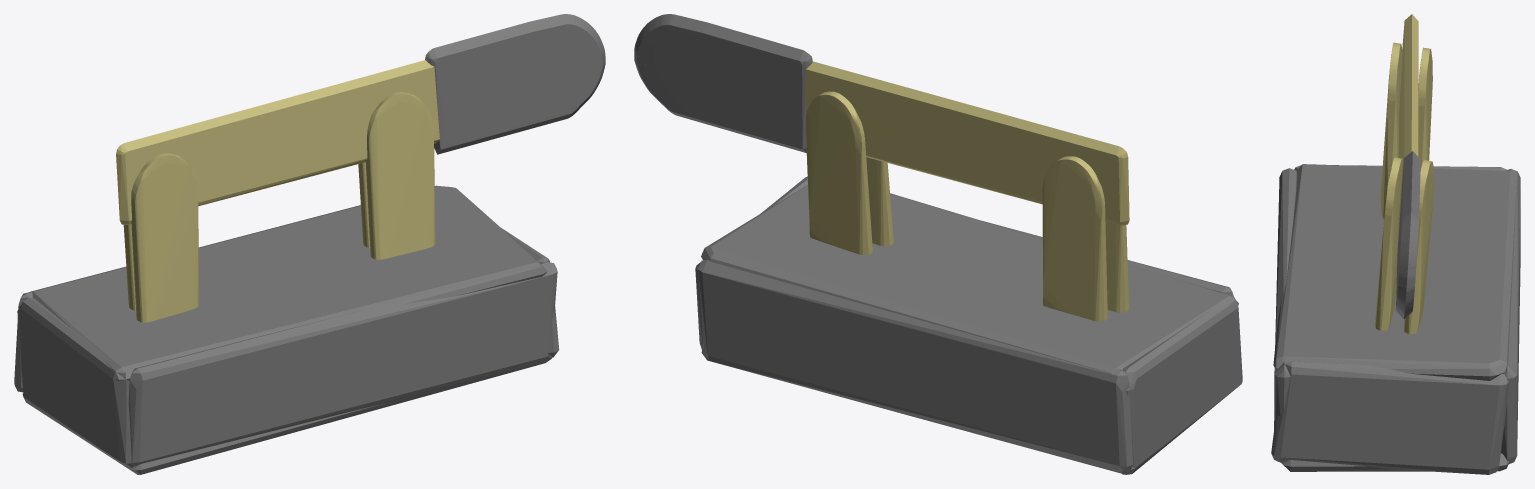
Rendered from Switch.fbx.
3 renders of one model, left to right at view 1: azimuth 30°, elevation 25°; view 2: azimuth 150°, elevation 25°; view 3: azimuth 270°, elevation 25°, orthographic. The views are drawn at different scales.
Parts seen in each view (by area): view 1: brush_MatteHull_g0_b0.007; view 2: brush_MatteHull_g0_b0.007; view 3: brush_MatteHull_g0_b0.007.
Part boxes in pixels (x1=…): brush_MatteHull_g0_b0.007: x1=14, y1=14, x2=605, y2=474; brush_MatteHull_g0_b0.007: x1=634, y1=14, x2=1242, y2=474; brush_MatteHull_g0_b0.007: x1=1271, y1=14, x2=1520, y2=474.
Bounding box in the file's own units: 27.69 × 14.73 × 10.67.
